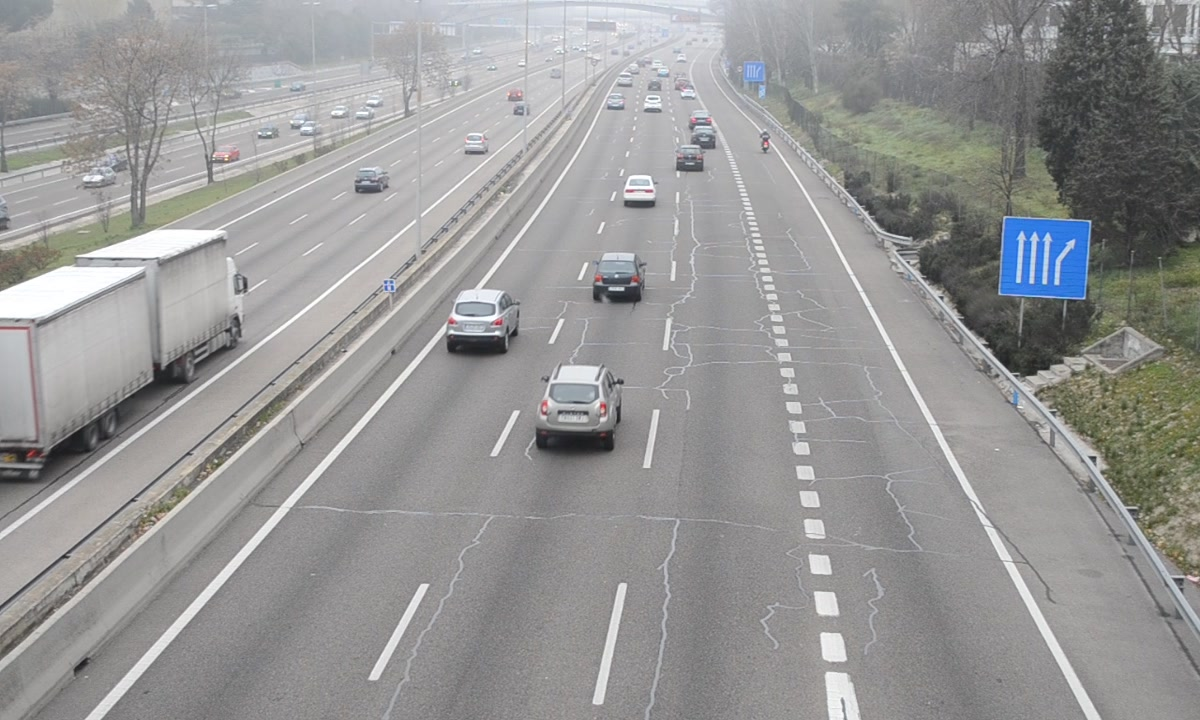car: (535, 365, 620, 434), (447, 288, 519, 340), (593, 251, 644, 299), (624, 173, 656, 202), (676, 145, 705, 172)
motorcycle: (759, 127, 772, 154)
